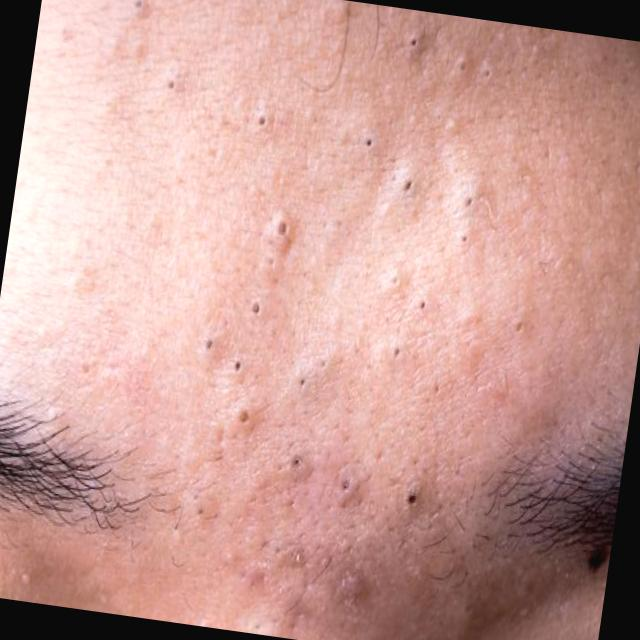blackhead: (278, 223, 286, 234), (253, 304, 260, 313), (240, 413, 247, 422), (134, 0, 142, 7), (409, 496, 416, 504), (259, 116, 265, 125), (410, 39, 416, 46), (406, 182, 411, 190), (168, 83, 174, 89), (366, 140, 372, 146), (275, 548, 280, 554), (207, 342, 211, 349), (236, 363, 240, 370), (460, 64, 464, 70), (485, 70, 489, 76), (468, 198, 471, 206), (421, 302, 425, 308), (394, 350, 398, 356), (462, 238, 466, 242), (198, 510, 202, 514), (301, 380, 304, 385), (295, 460, 298, 464), (193, 496, 197, 499), (344, 485, 347, 488), (436, 388, 438, 392)
